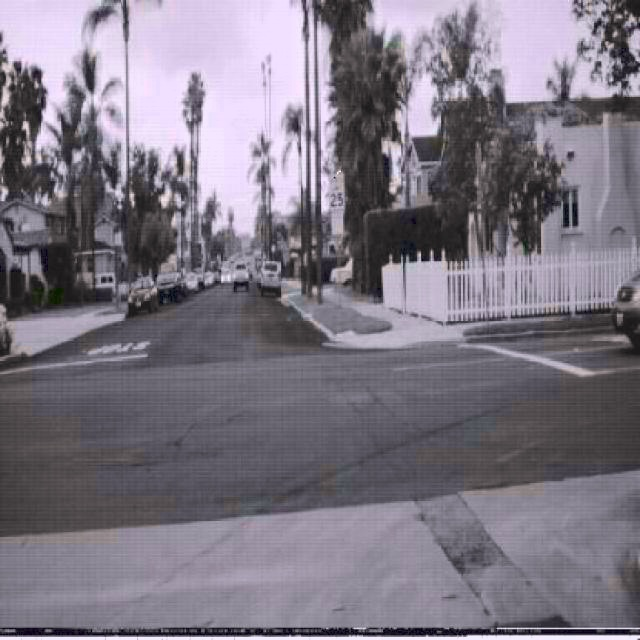speedLimit25: (328, 170, 346, 212)
